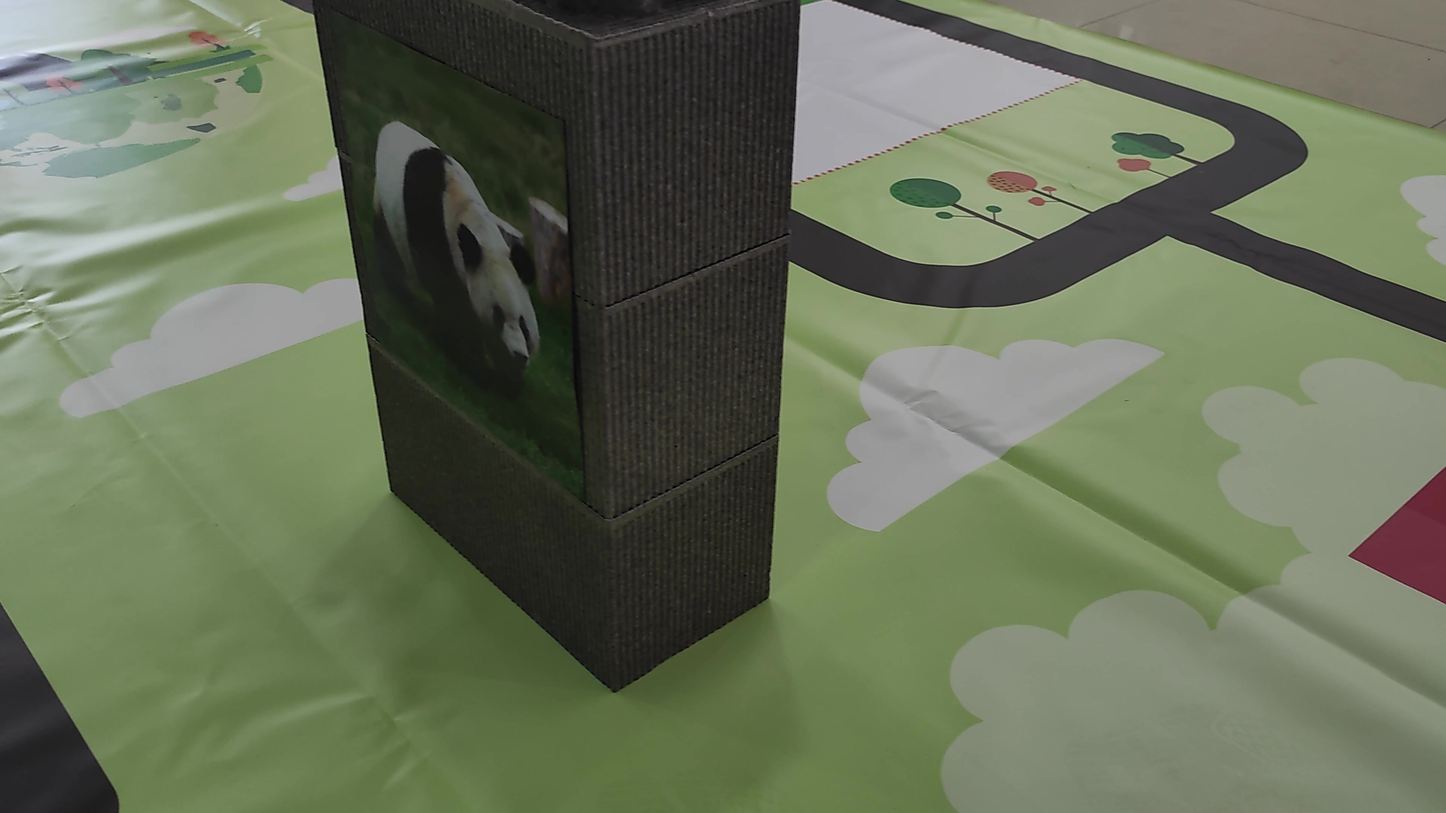panda: (363, 98, 563, 401)
